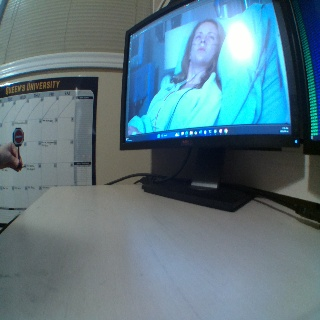sign_noentry: (12, 128, 24, 143)
